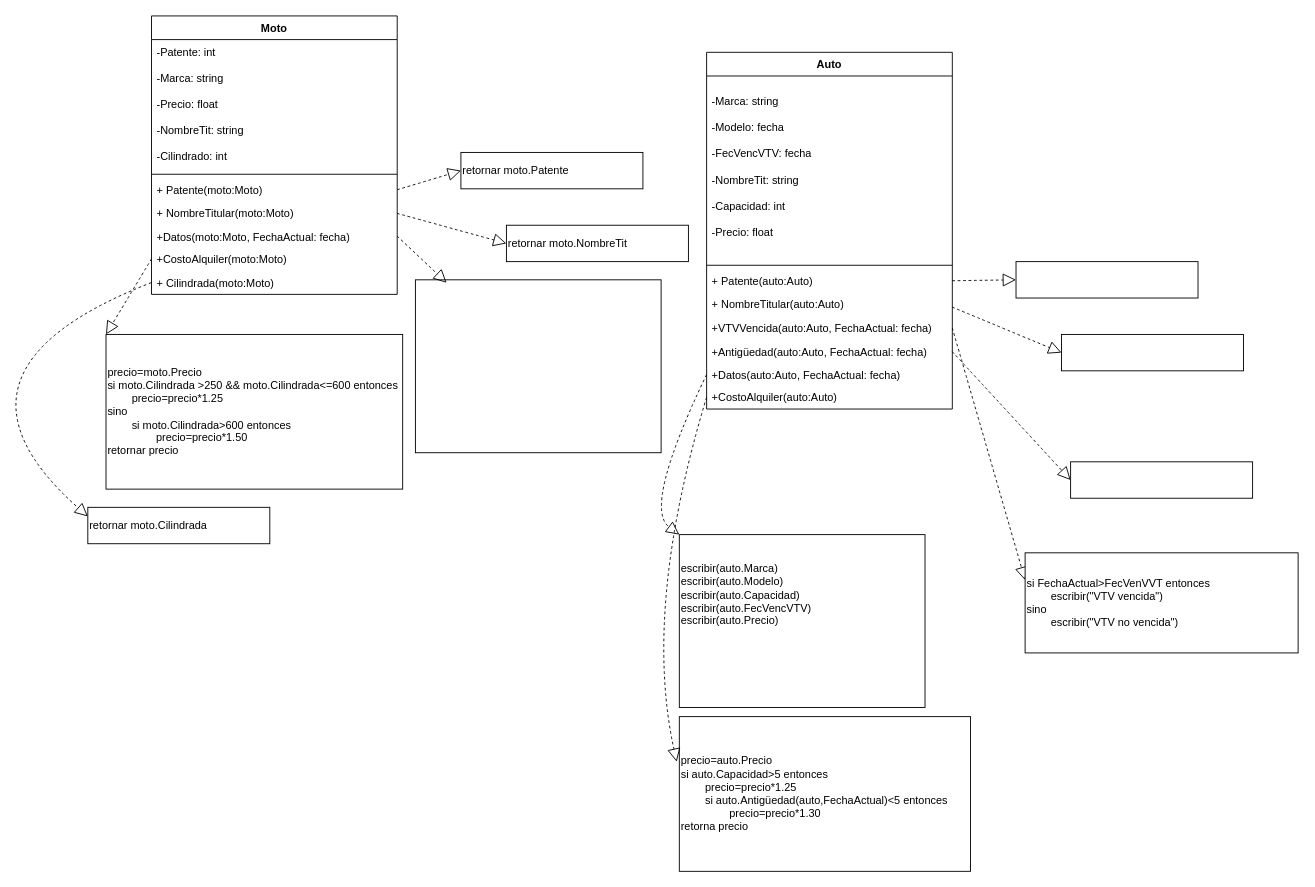
Some shapes in this 1315 by 887 pixel diagram are drawn without their labels. The centre of each missing label's shape, as x and y in pixels:
escribir(moto.Marca) escribir(moto.Modelo) escribir(moto.Precio): point (538, 366)
retorna FechaActual - auto.Modelo: point (1161, 479)
retornar auto.NombreTit: point (1152, 352)
retornar auto.Patente: point (1106, 279)
